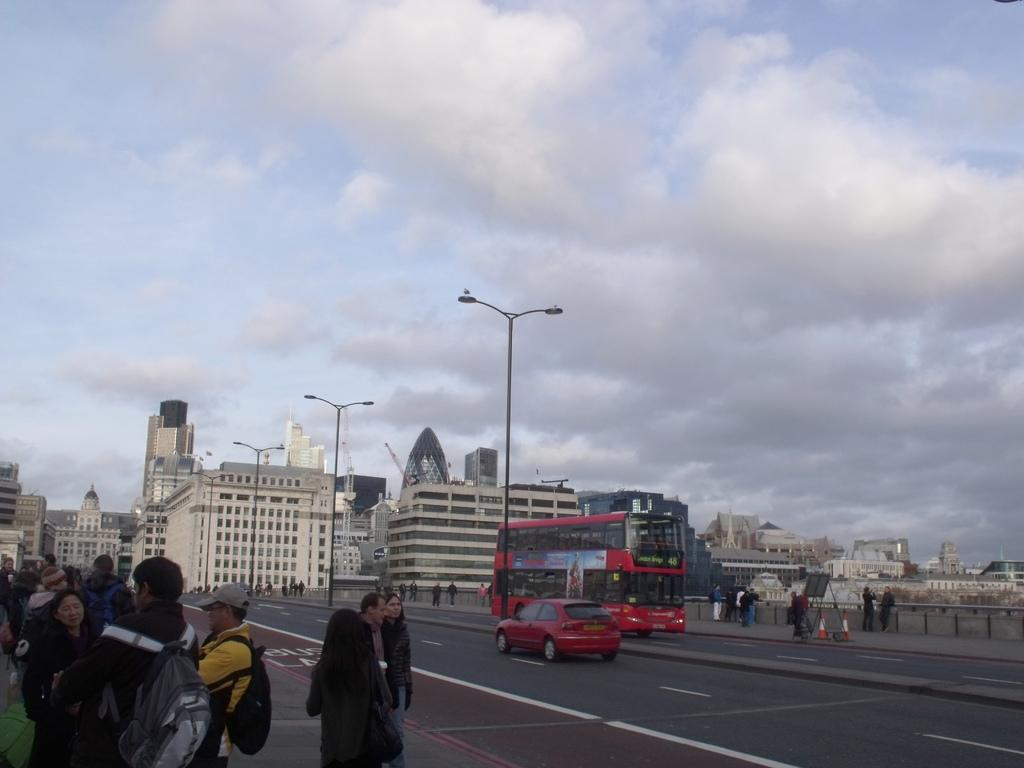vehicle: (489, 512, 687, 639), (494, 598, 622, 661)
